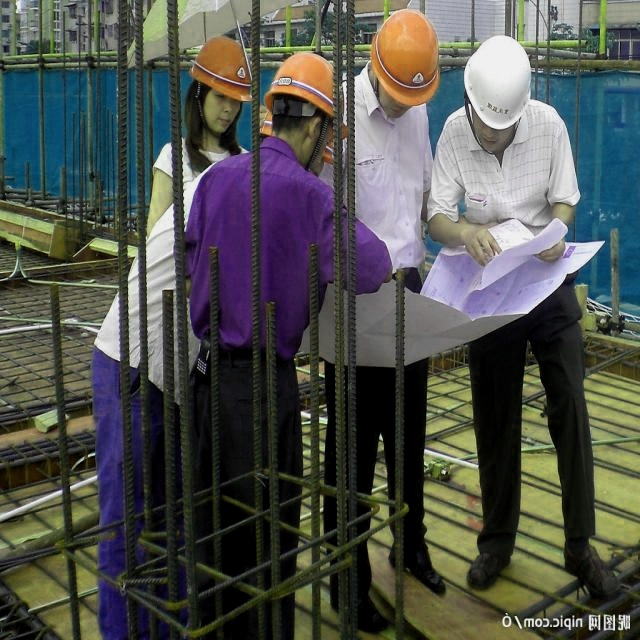Con_Casco: (462, 36, 534, 148), (369, 8, 445, 110)
